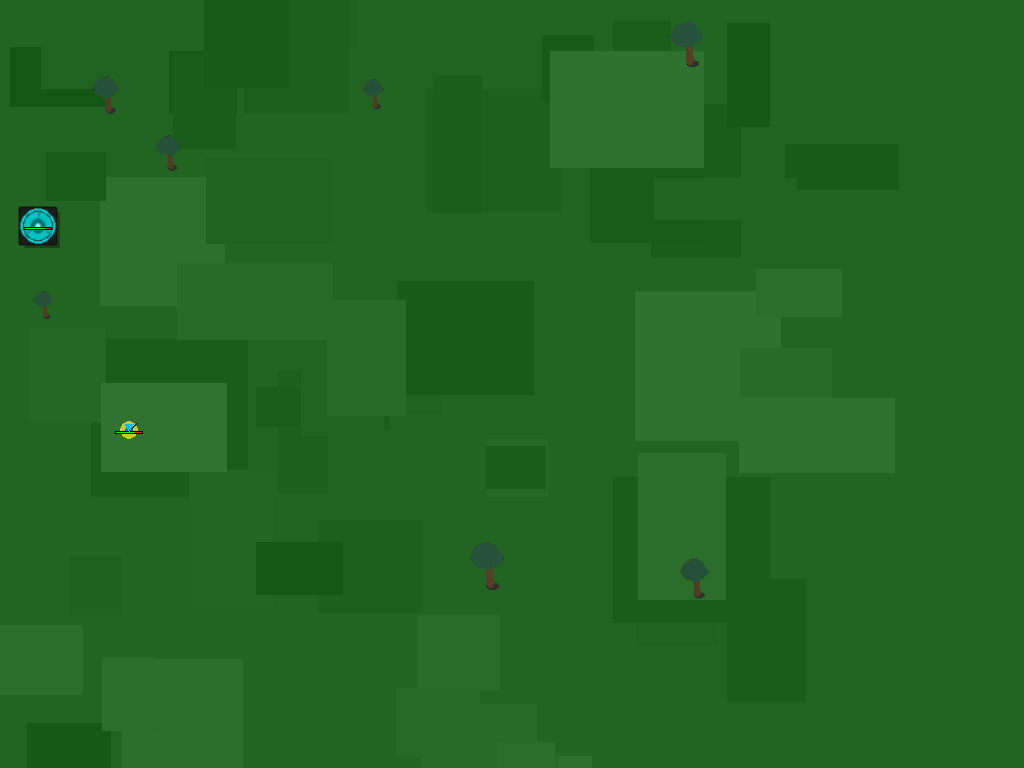AttackPlane_chn: (8, 196, 67, 255)
Rifleman: (112, 413, 146, 447)
